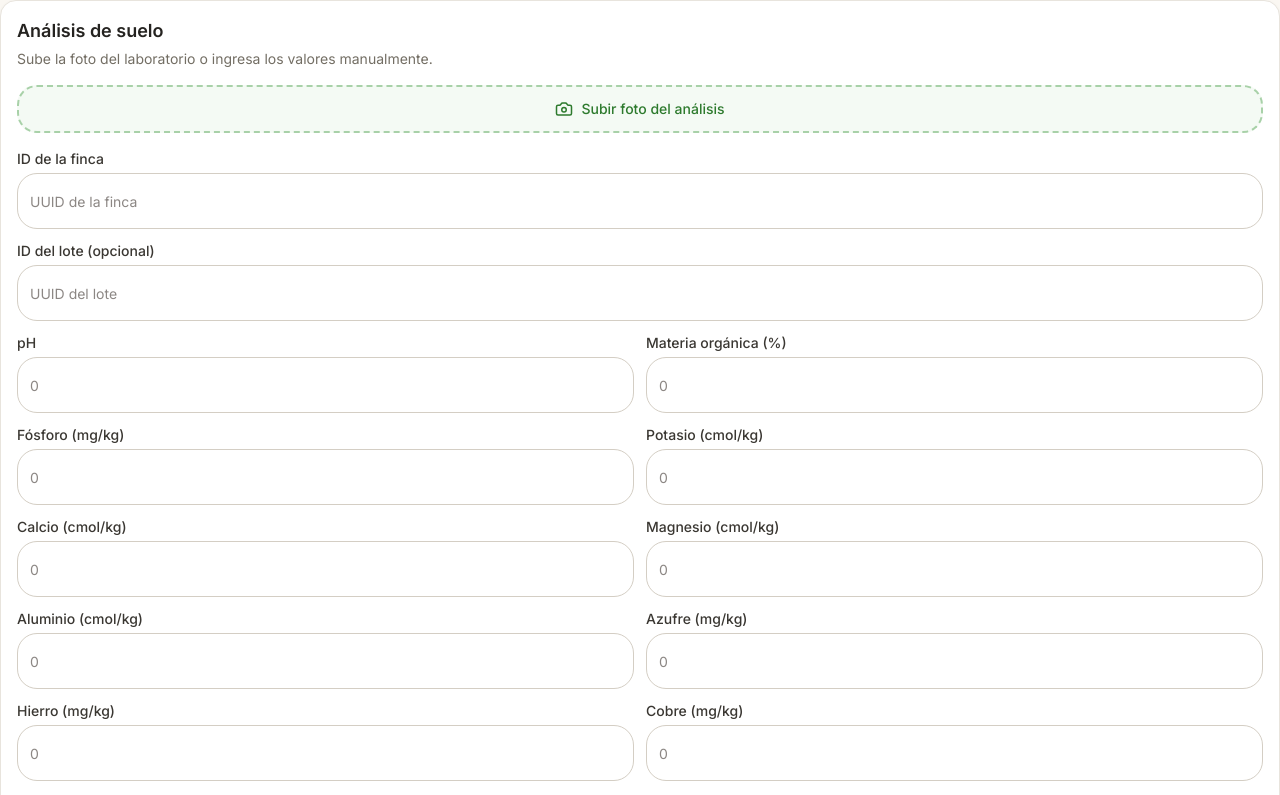
Scenario: SoilAnalysisForm › muestra error con valor no numérico
Type "bbbbbbbb-0000-4000-8000-000000000001" into the field with placeholder "UUID de la finca" at (640, 201), box [17,173,1263,229]
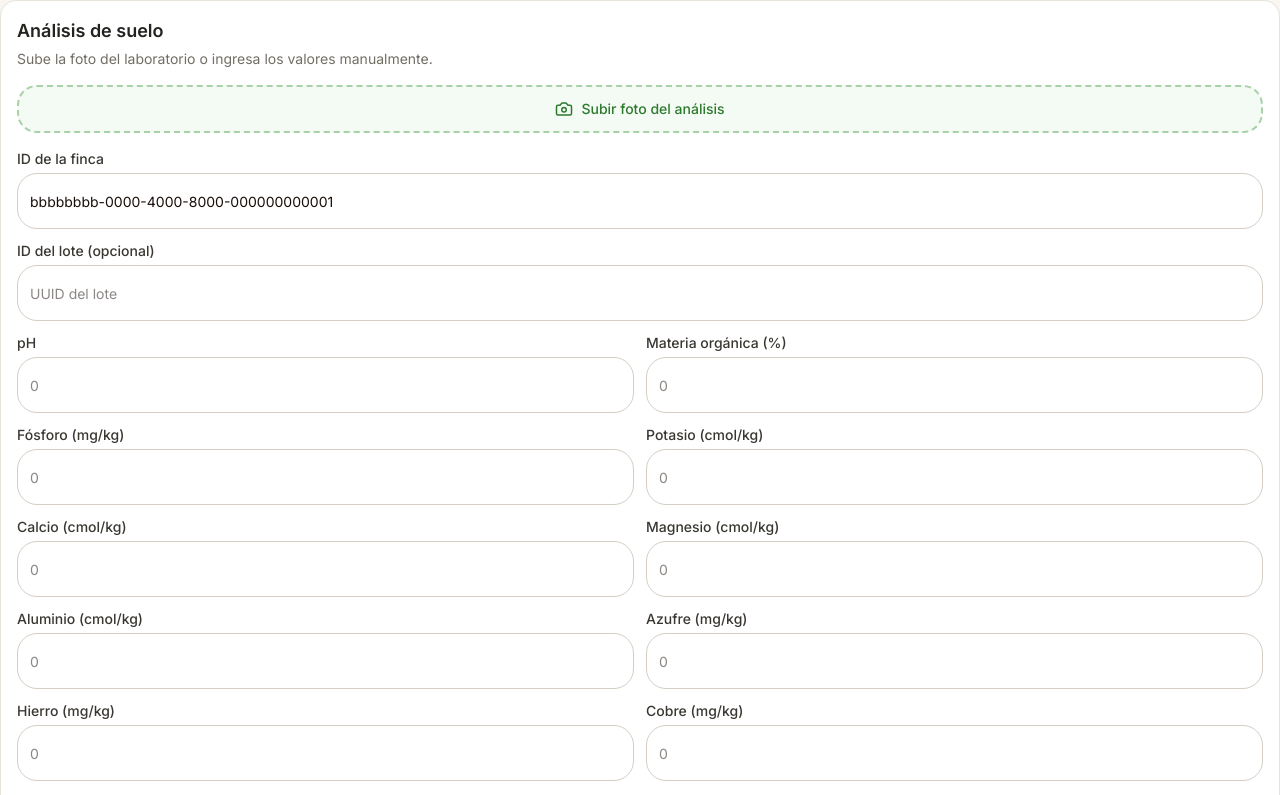
Type "abc" into the field labelled "pH" at (326, 385), box [17,357,634,413]
(page scrolled)
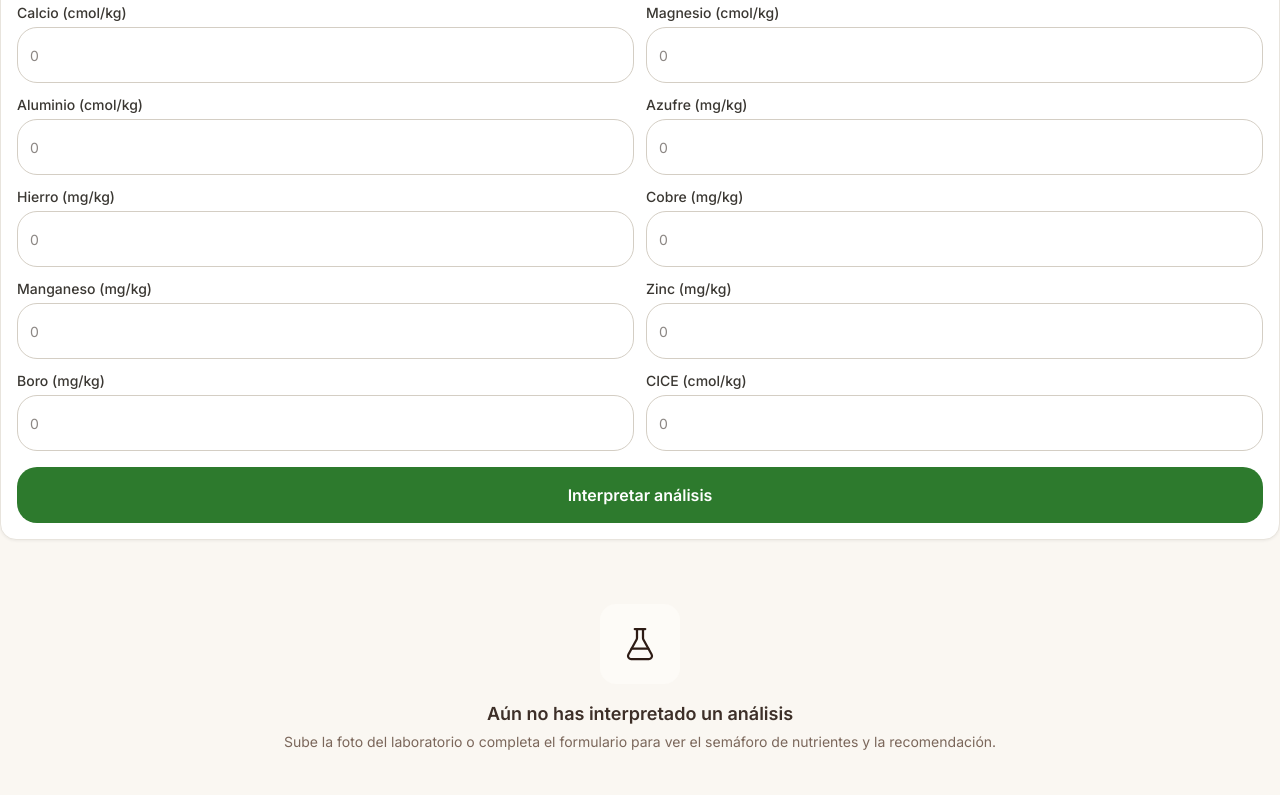
Click the button "Interpretar análisis" at (640, 495), box [17,467,1263,523]
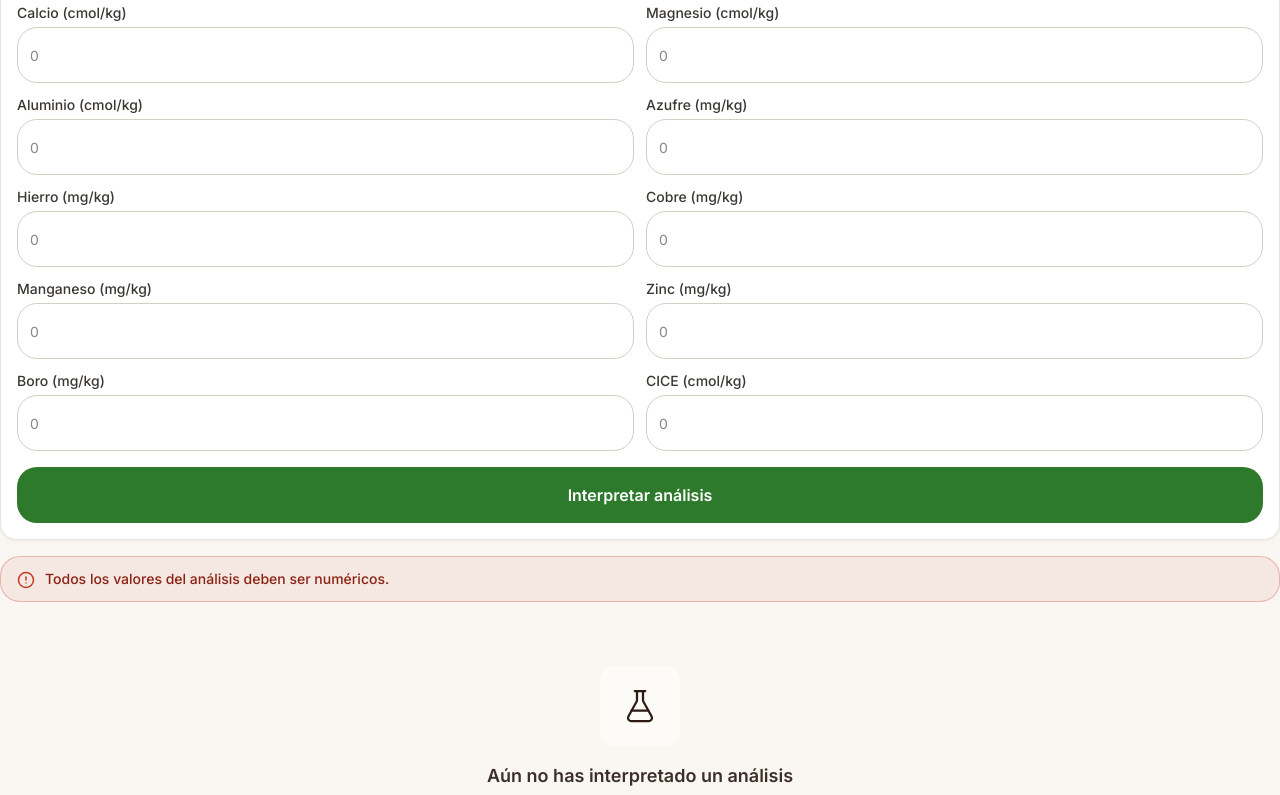
Expected: the message shows "numéricos", [45,570,389,587]
